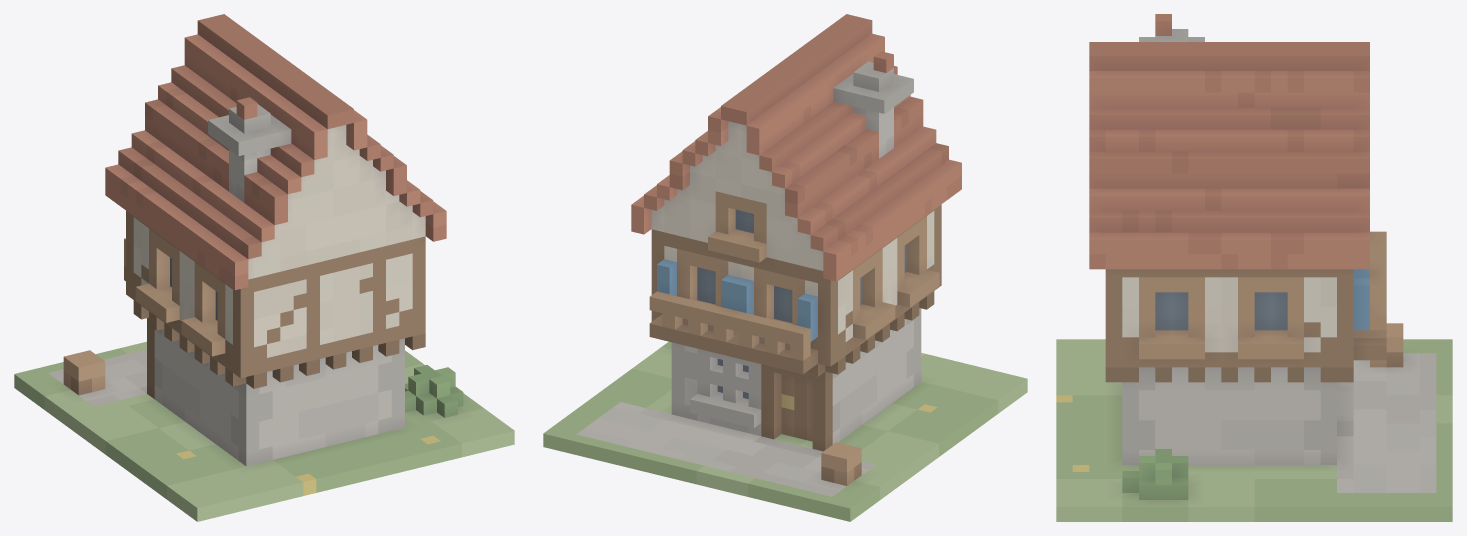
File: house_citizens.v1.glb
3 renders of one model, left to right at view 1: azimuth 30°, elevation 25°; view 2: azimuth 150°, elevation 25°; view 3: azimuth 270°, elevation 25°, orthographic. The views are drawn at different scales.
Parts seen in each view (by area): view 1: house_citizens; view 2: house_citizens; view 3: house_citizens.
Part boxes in pixels (x1,y1,x2,y2): house_citizens: [14, 14, 514, 521]; house_citizens: [543, 14, 1027, 521]; house_citizens: [1056, 14, 1452, 521].
Size of the model in its own units: 3 by 3.25 by 3.
